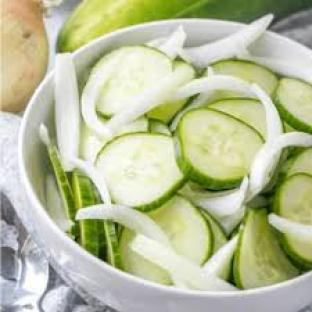Cucumber: (175, 109, 263, 189), (96, 134, 184, 210), (88, 46, 173, 117), (233, 208, 299, 288), (150, 196, 213, 264), (48, 146, 79, 239), (120, 228, 171, 284), (213, 60, 278, 95), (208, 99, 266, 137), (275, 78, 311, 133), (275, 174, 311, 224), (99, 221, 122, 267), (202, 211, 227, 253), (80, 124, 106, 162), (73, 170, 97, 209), (147, 100, 187, 123), (288, 147, 311, 176), (98, 221, 109, 260), (149, 120, 171, 135)
